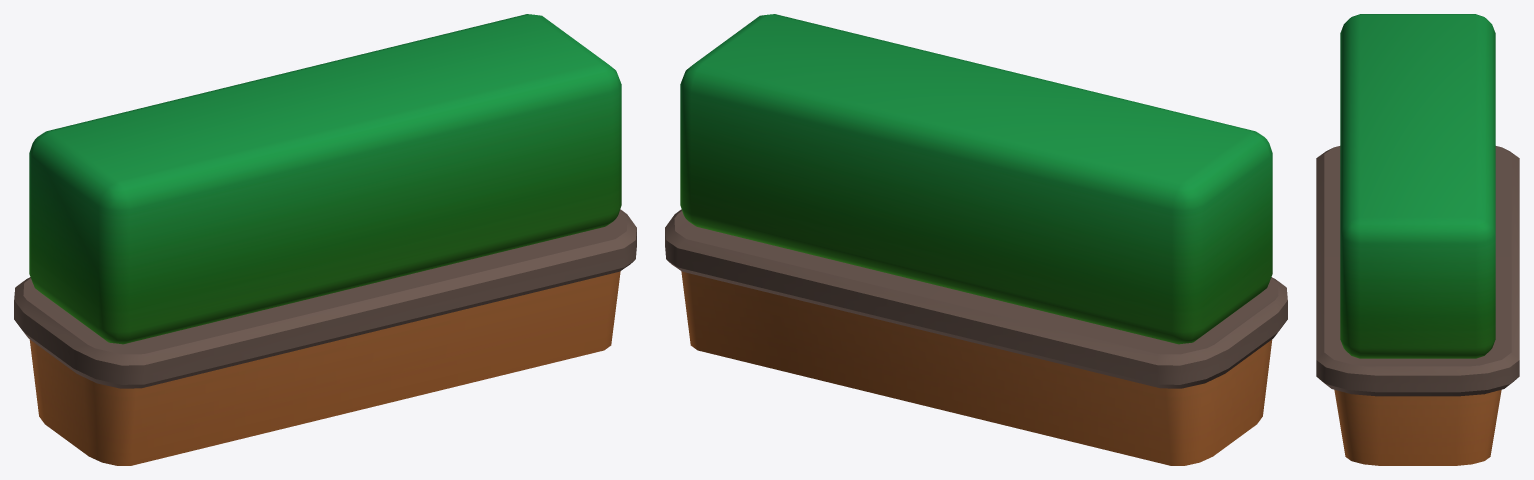
File: Bush_1_1.glb
The picture shows the model from 3 angles, left to right: view 1: azimuth 30°, elevation 25°; view 2: azimuth 150°, elevation 25°; view 3: azimuth 270°, elevation 25°; orthographic projection. The views are drawn at different scales.
Visible parts, largest first — view 1: Bush_1_1; view 2: Bush_1_1; view 3: Bush_1_1.
Part boxes in pixels (bbox=[...]): Bush_1_1: bbox=[14, 14, 636, 465]; Bush_1_1: bbox=[665, 14, 1287, 465]; Bush_1_1: bbox=[1316, 14, 1519, 465].
Bounding box in the file's own units: 2.2 × 1.06 × 0.812.
Materials: 2 (2 with a texture image).
